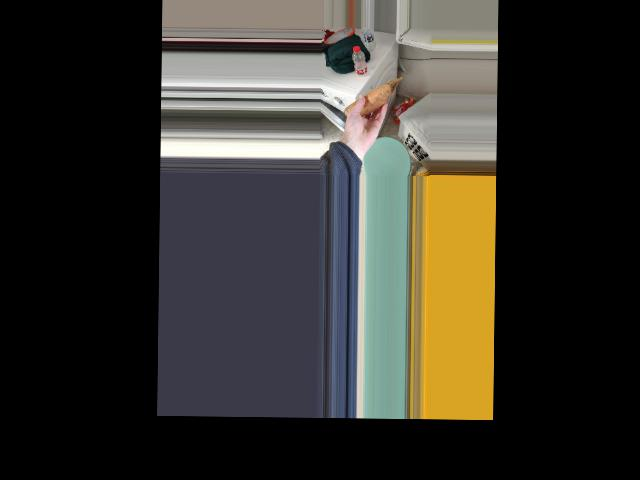sweet_potato: (346, 90, 382, 122)
